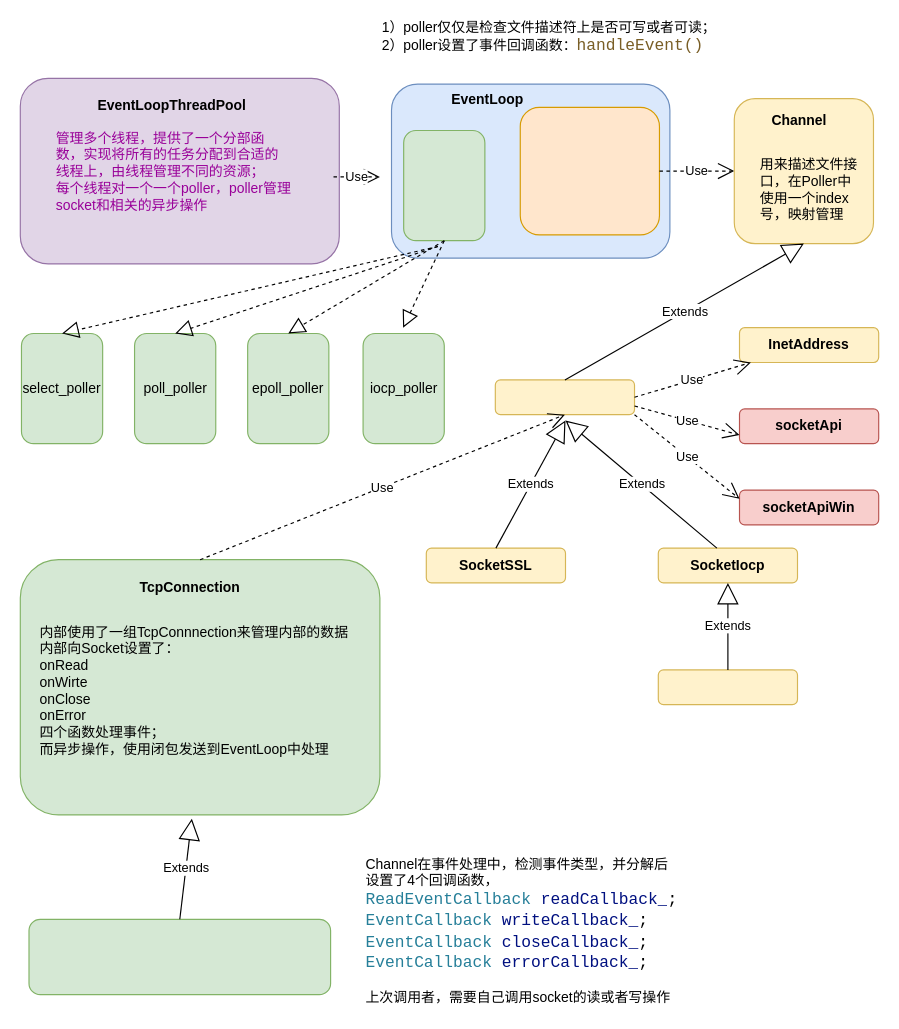
Image size: 899x1029. Some labels were removed from this diagram. Here are the shapes that lost their labels. From the top down, the centre of each, then its label:
(444,185): poller
(589,170): ChannelList 这里的通道列表仅仅是一个裸指针引用，不是真正的管理者，资源由上层类管理
(564,397): Socket
(727,687): SocketSSLIocp
(179,956): TcpConnectionIocp
